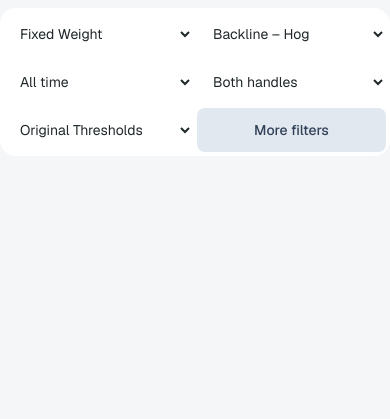
it: HistoryFilterBar — Compare: Custom › disables Apply for an invalid On Target value -0.1
Select "Compare: Custom…" in the dropdown named "Threshold Comparison Mode". click: (98, 130)
box: 4,108 -> 193,152
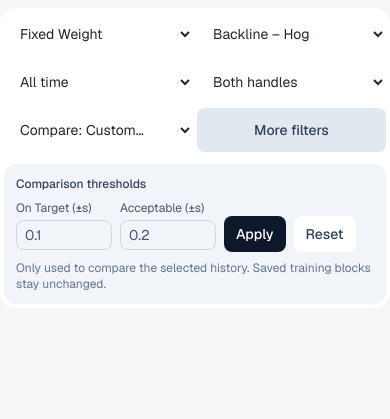
Replace the text in the number field named "Custom On Target threshold" with "-0.1". click: (64, 235)
box: 16,220 -> 112,250
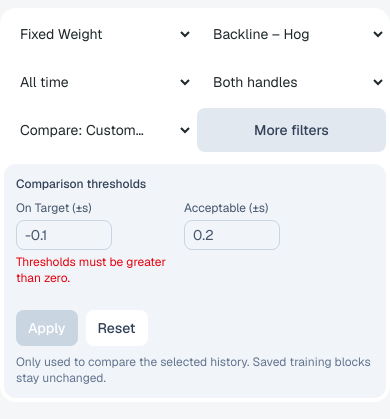
Expected: the button "Apply" is disabled, 16,310 -> 78,346
